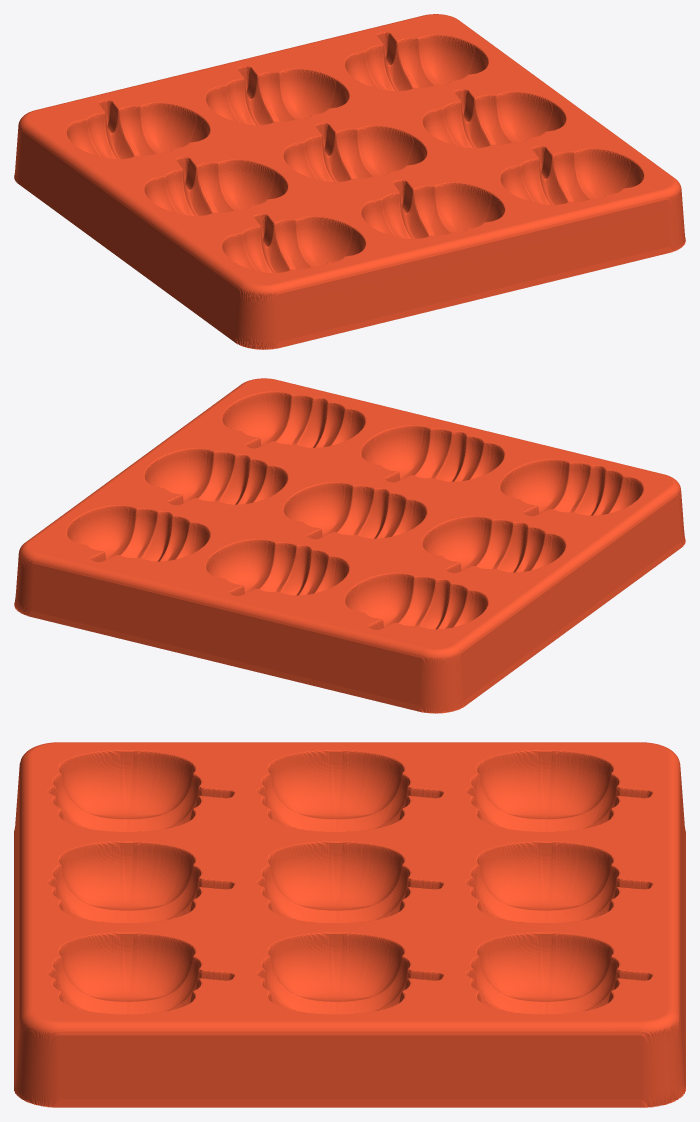
The model's file is mold.glb.
3 views of the same model, one above another, from view 1: azimuth 30°, elevation 25°; view 2: azimuth 150°, elevation 25°; view 3: azimuth 270°, elevation 25° (orthographic). The views are drawn at different scales.
Parts seen in each view (by area): view 1: geometry_0; view 2: geometry_0; view 3: geometry_0.
Part boxes in pixels (x1,y1,x2,y2): geometry_0: [14, 14, 685, 349]; geometry_0: [14, 378, 685, 713]; geometry_0: [14, 742, 685, 1107].
Bounding box in the file's own units: 0.1387 × 0.0175 × 0.1345.
